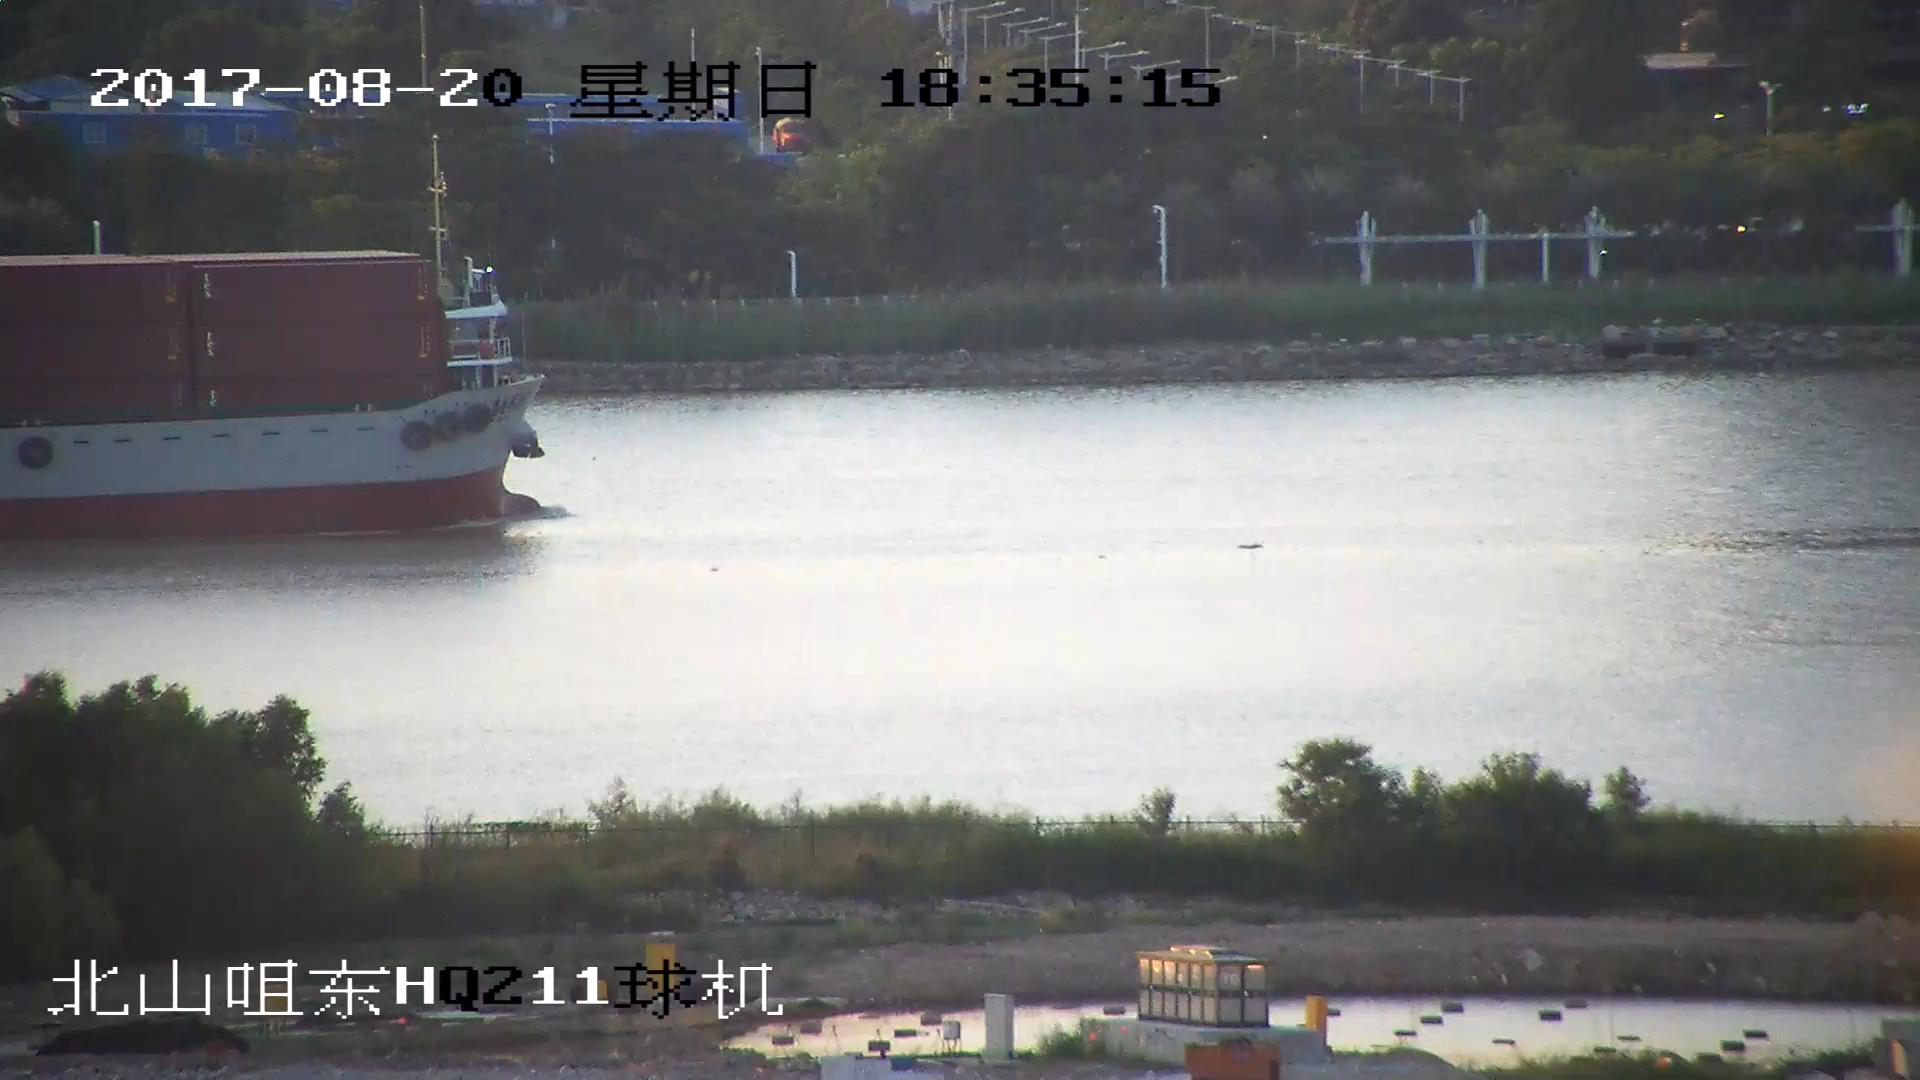container ship: (1, 140, 556, 537)
